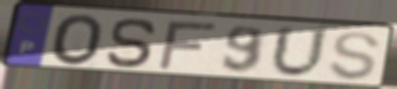9: (219, 24, 265, 76)
F: (154, 21, 221, 72)
O: (50, 13, 106, 68)
S: (104, 17, 161, 71), (326, 30, 383, 83)
U: (268, 23, 332, 81)
